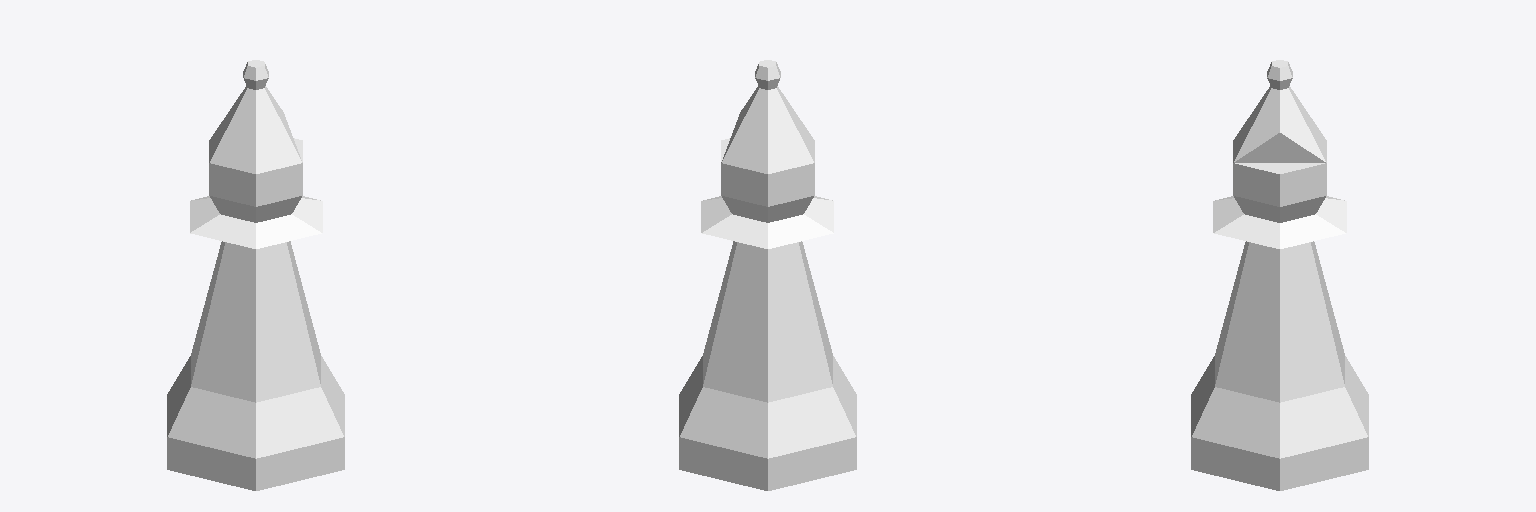
Rendered from bishop.obj.
3 views of the same model, side by side, from view 1: azimuth 30°, elevation 25°; view 2: azimuth 150°, elevation 25°; view 3: azimuth 270°, elevation 25° (orthographic).
Visible parts, largest first — view 1: Bishop_Sphere.006; view 2: Bishop_Sphere.006; view 3: Bishop_Sphere.006.
Boxes of the visible parts, <box> form: Bishop_Sphere.006: <box>167,60,344,490</box>; Bishop_Sphere.006: <box>679,60,856,490</box>; Bishop_Sphere.006: <box>1191,60,1368,490</box>.
Size of the model in its own units: 0.2885 by 0.5988 by 0.2498.